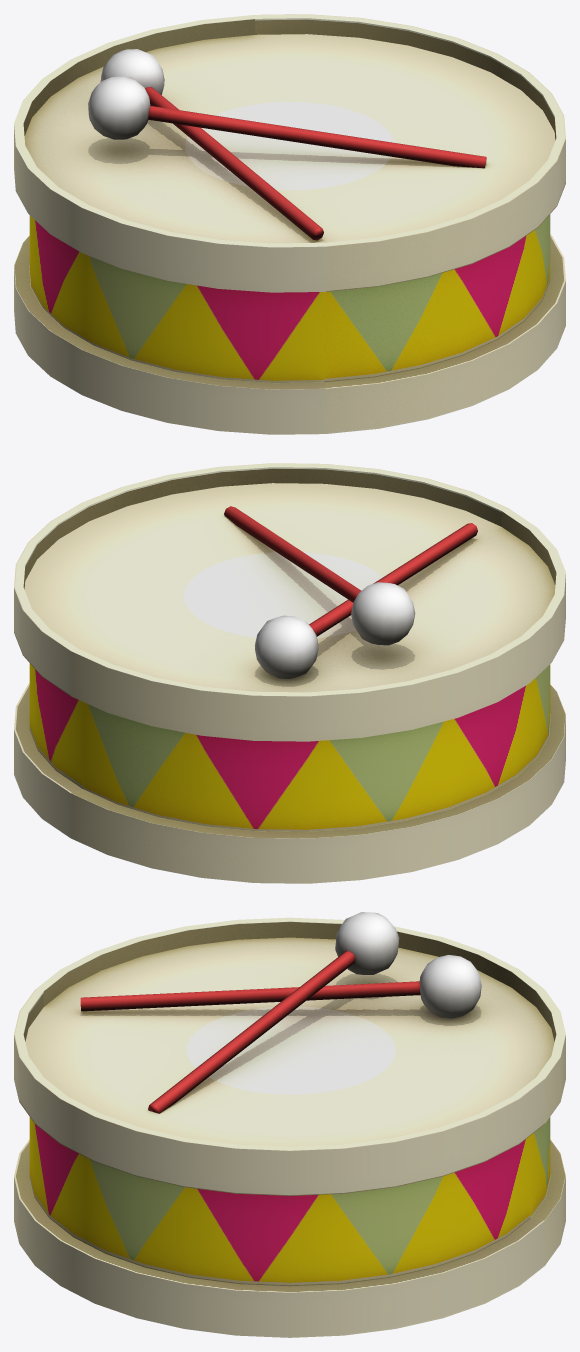
File: drum.fbx
The picture shows the model from 3 angles, top to bottom: view 1: azimuth 30°, elevation 25°; view 2: azimuth 150°, elevation 25°; view 3: azimuth 270°, elevation 25°; orthographic projection.
Visible parts, largest first — view 1: drum; view 2: drum; view 3: drum.
Boxes of the visible parts, x1,y1,x2,y2 form: drum: (14,14,565,434); drum: (14,463,565,883); drum: (14,912,565,1337).
Size of the model in its own units: 0.176 by 0.0851 by 0.176.
